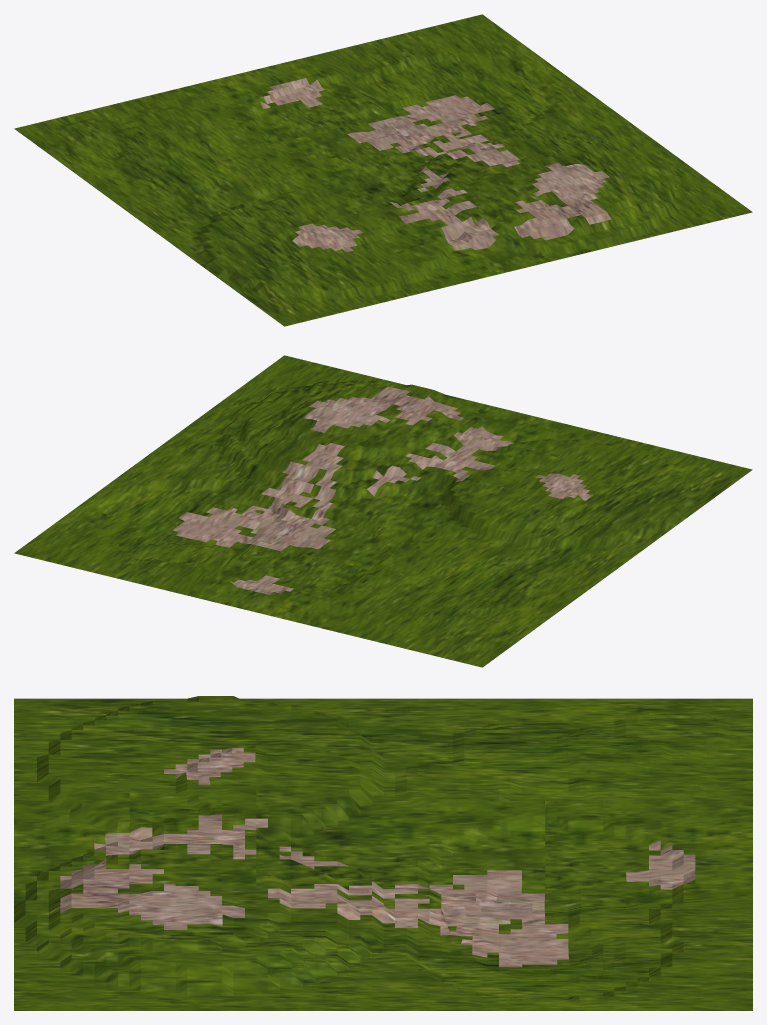
Rendered from forestscene.glb.
3 views of the same model, one above another, from view 1: azimuth 30°, elevation 25°; view 2: azimuth 150°, elevation 25°; view 3: azimuth 270°, elevation 25° (orthographic). The views are drawn at different scales.
Visible parts, largest first — view 1: Plane; view 2: Plane; view 3: Plane.
Part boxes in pixels (x1,y1,x2,y2): Plane: (14, 14, 752, 326); Plane: (14, 355, 752, 667); Plane: (14, 696, 752, 1010).
Bounding box in the file's own units: 100 × 5.3 × 100.
1 material, 1 textured.
